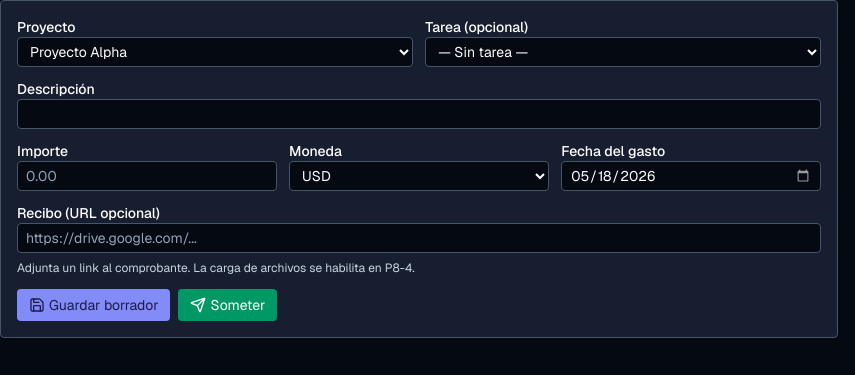
Test: ExpenseSubmissionForm › valida descripción vacía
In the field with placeholder "0.00": (147, 176) [17,161,277,191], type "10"
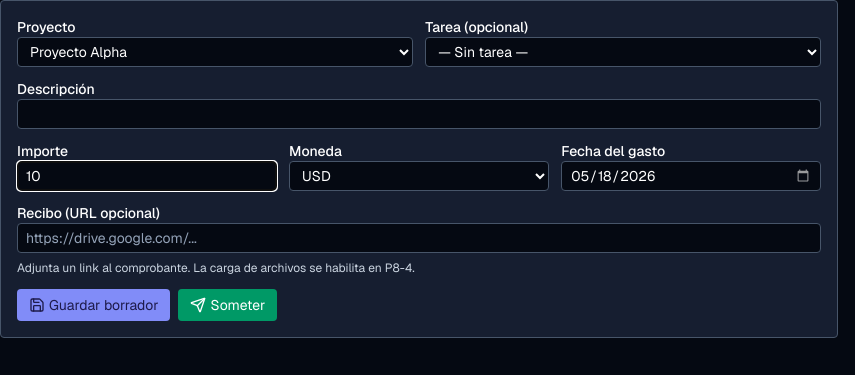
Click the button "Guardar borrador": (94, 305) [17,289,170,321]
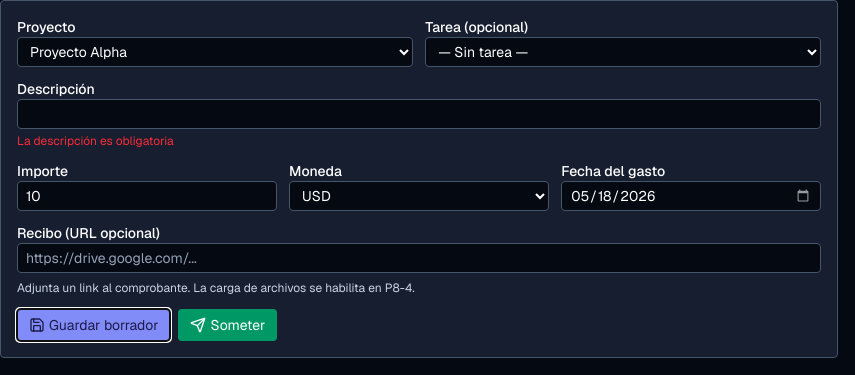
Expected: the text "La descripción es obligatoria" is shown, [17,133,174,149]
